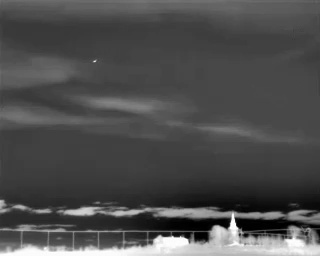AIRPLANE: (91, 57, 98, 65)
